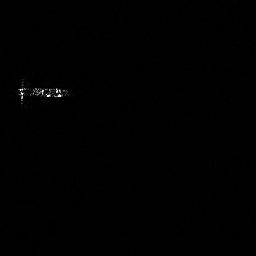ship: (13, 78, 73, 106)
